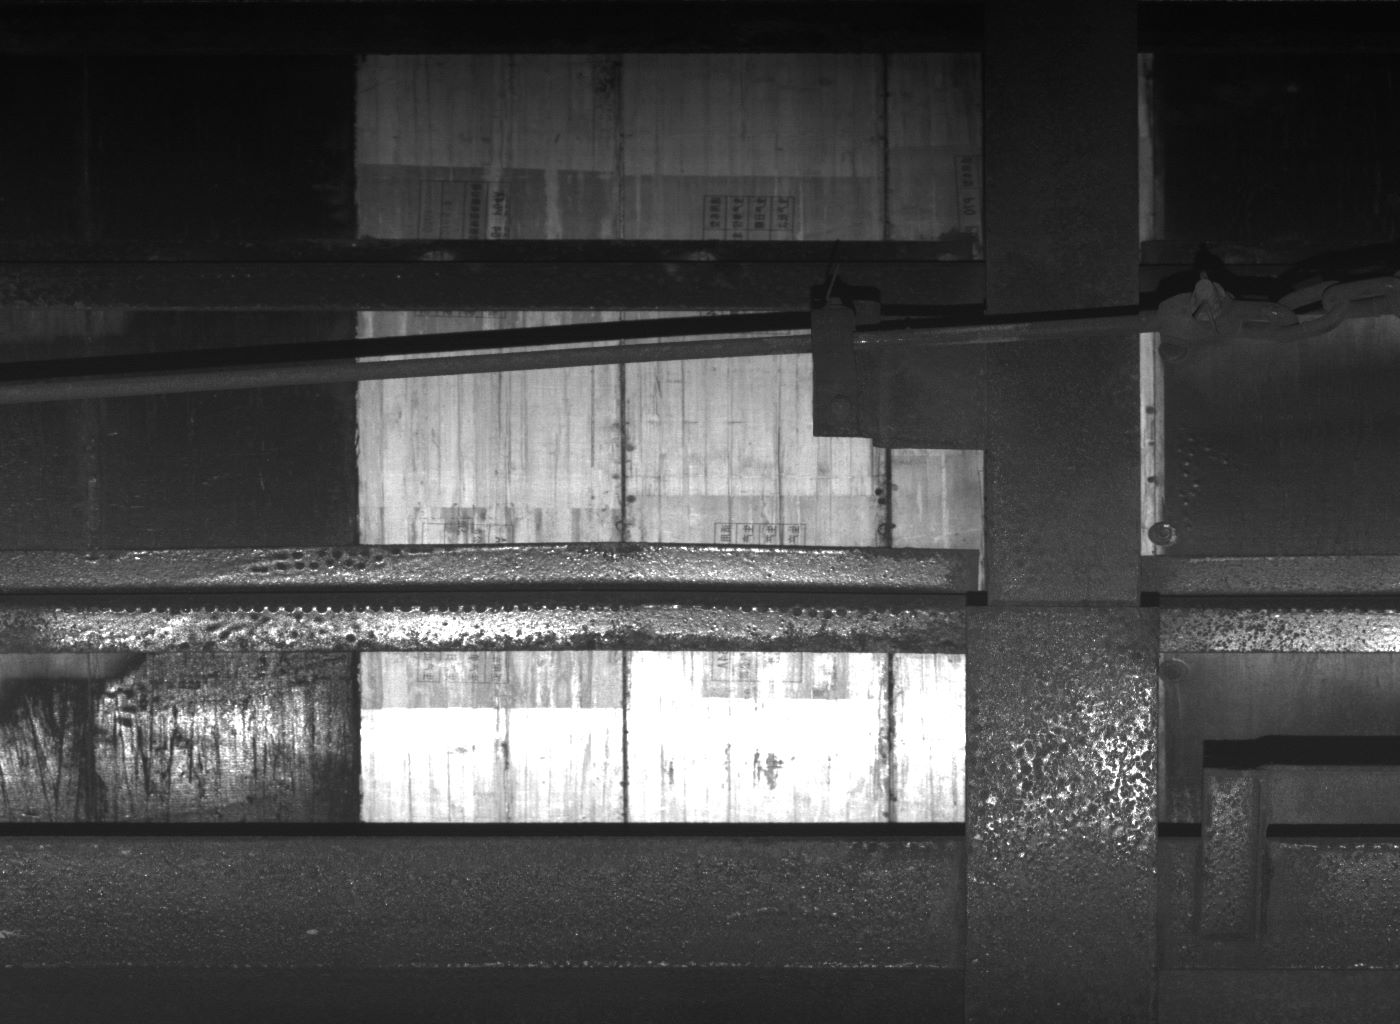normal: (811, 289, 861, 437)
